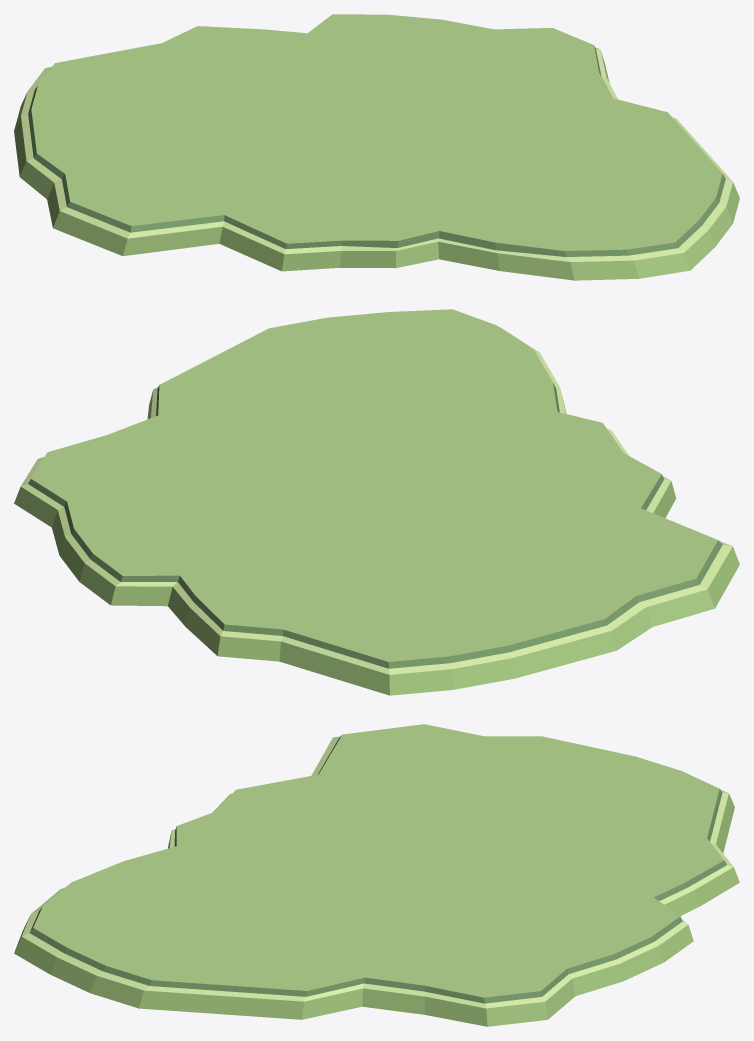
The model's file is groundPlatform2.fbx.
3 renders of one model, top to bottom at view 1: azimuth 30°, elevation 25°; view 2: azimuth 150°, elevation 25°; view 3: azimuth 270°, elevation 25°, orthographic. The views are drawn at different scales.
Parts seen in each view (by area): view 1: Cylinder; view 2: Cylinder; view 3: Cylinder.
Boxes of the visible parts, left/top/right/bottom form: Cylinder: left=14, top=14, right=739, bottom=280; Cylinder: left=14, top=309, right=739, bottom=695; Cylinder: left=14, top=724, right=739, bottom=1026.
Bounding box in the file's own units: 980 × 43.26 × 1043.
